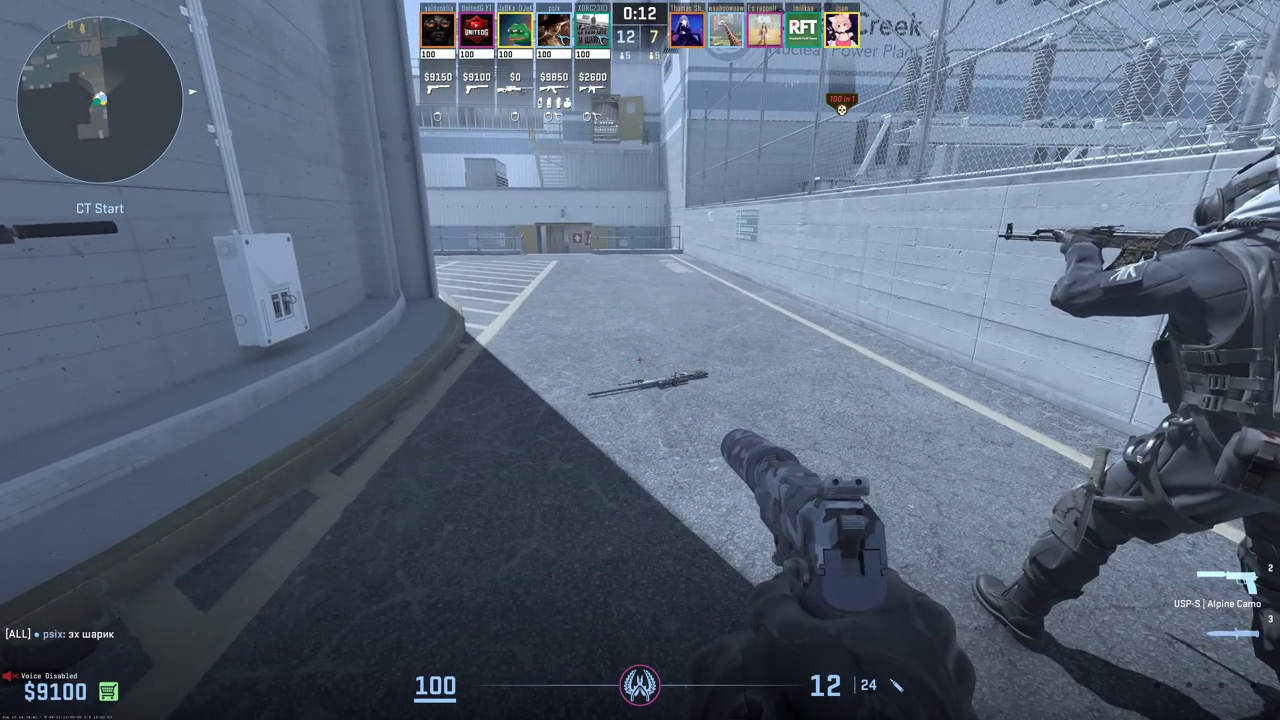CT: (1058, 146, 1280, 716)
